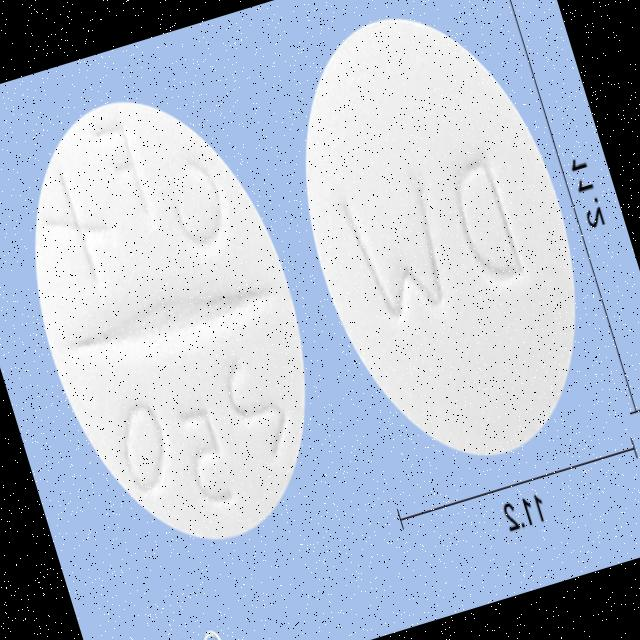Ciplus: (249, 0, 630, 498), (0, 60, 355, 575)
